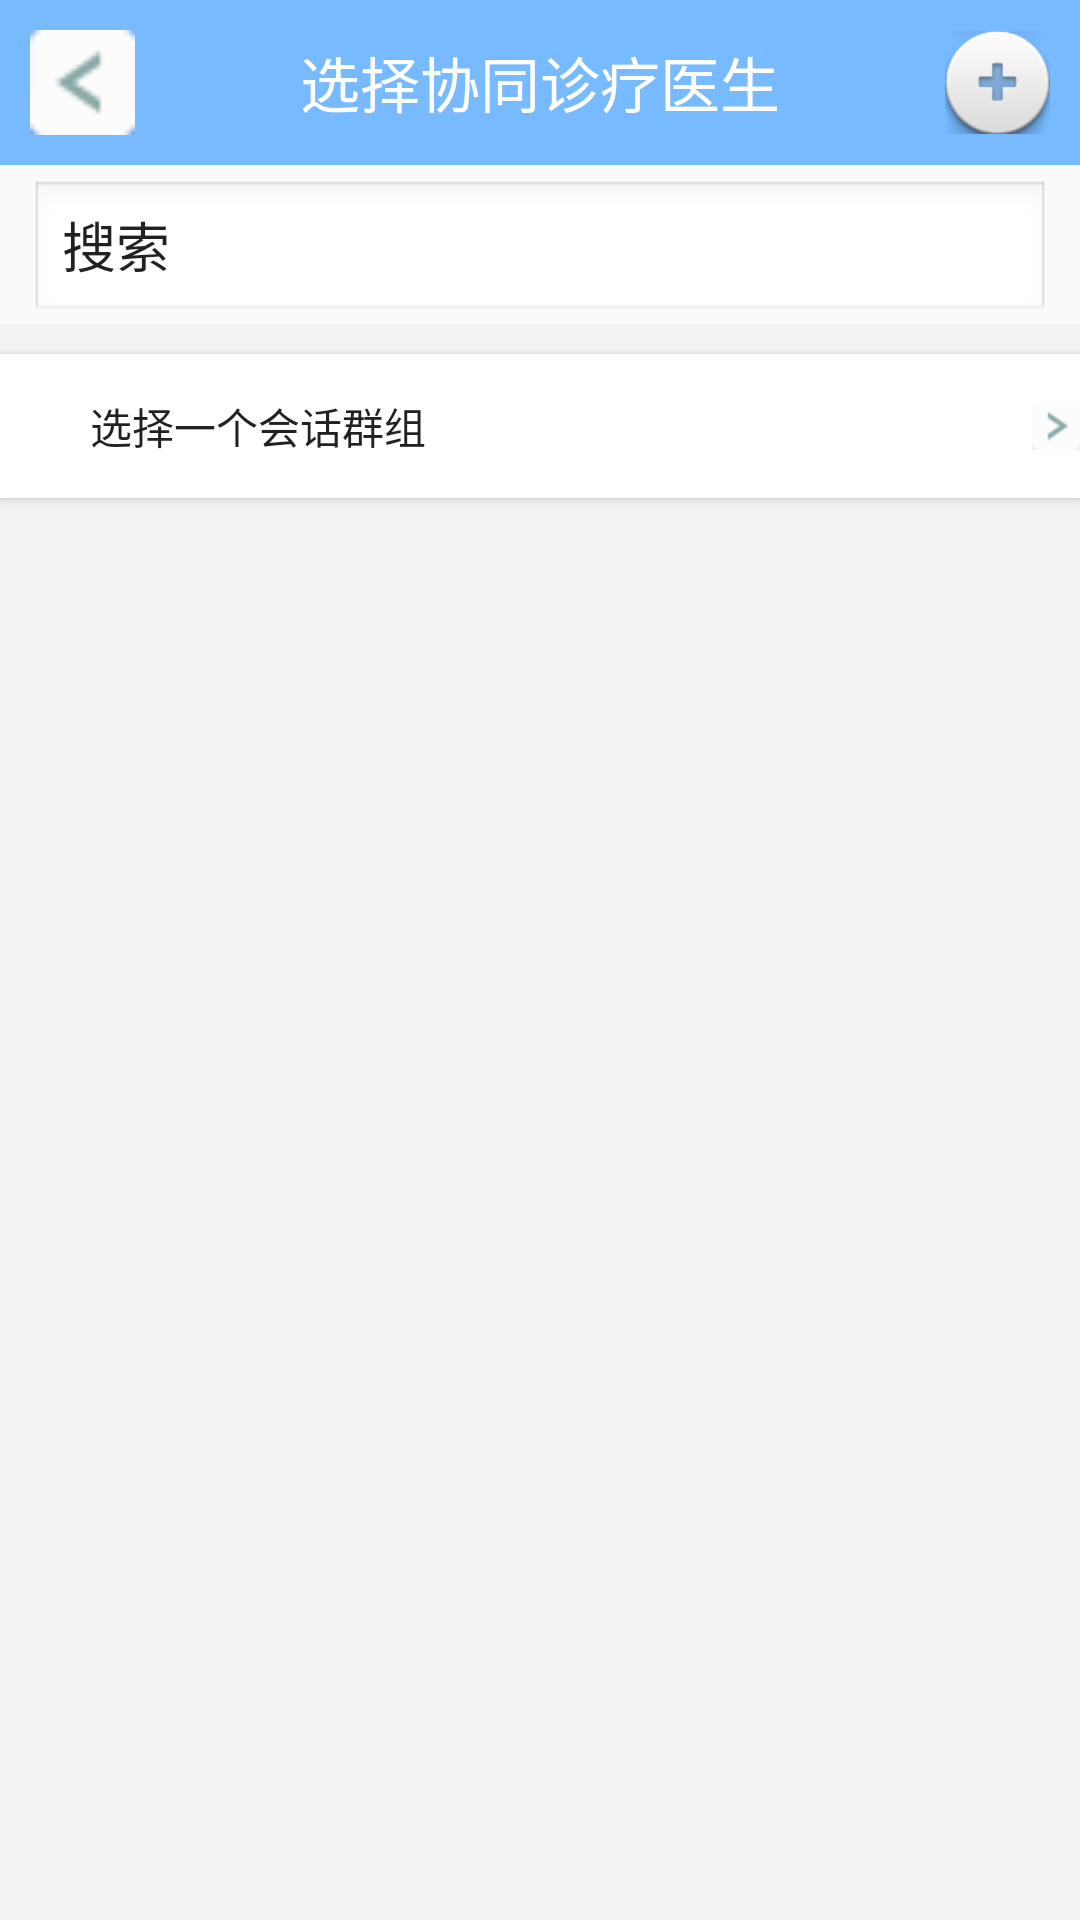

Where icons sit on this 1080 × 1920 app screen, as (x1, y1, x2, y2):
add: (945, 31, 1050, 134)
left: (30, 30, 135, 135)
